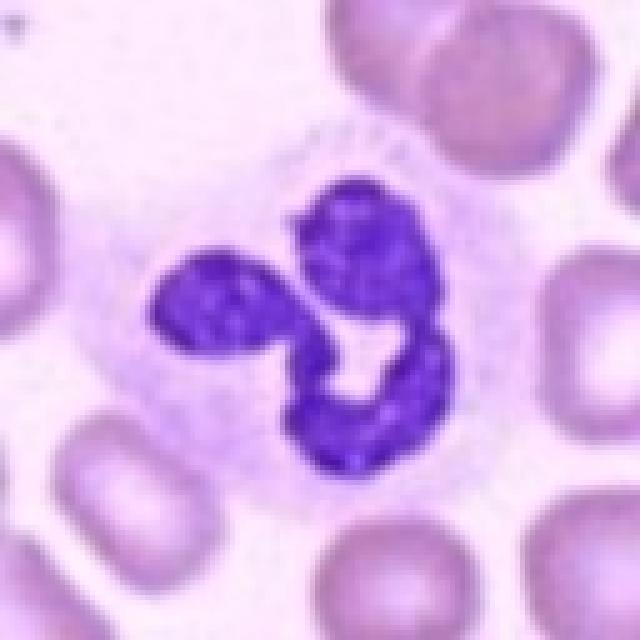neutro: (156, 168, 508, 500)
